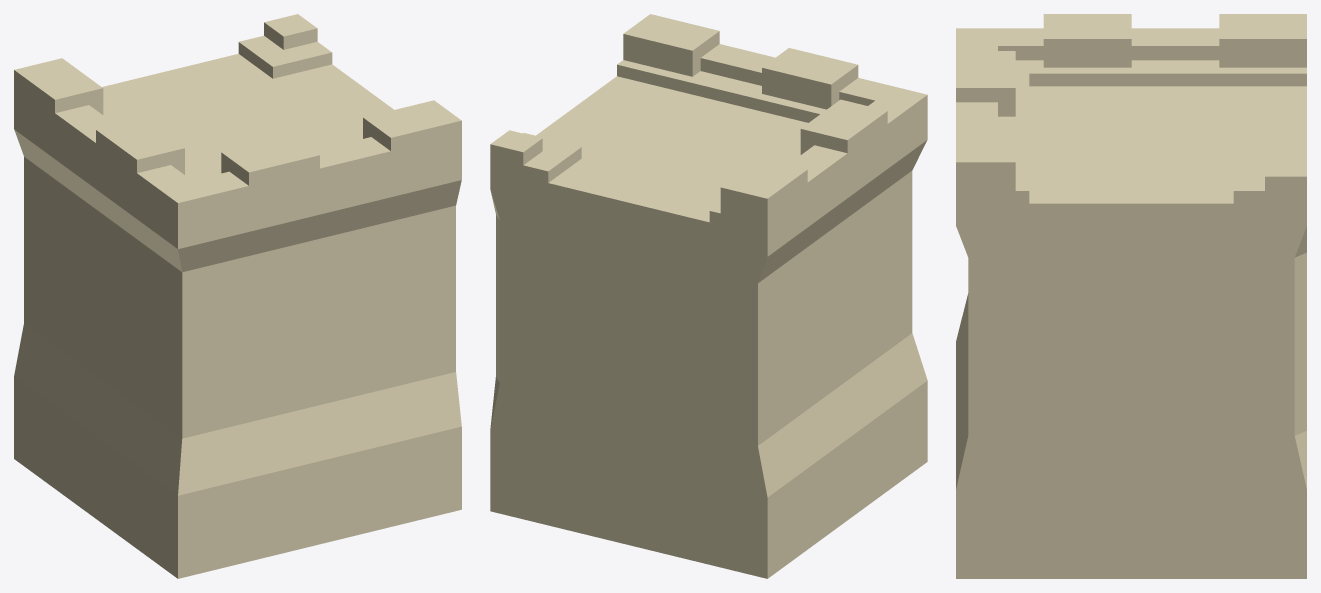
File: wallcorner.glb
The picture shows the model from 3 angles, left to right: view 1: azimuth 30°, elevation 25°; view 2: azimuth 150°, elevation 25°; view 3: azimuth 270°, elevation 25°; orthographic projection. The views are drawn at different scales.
Visible parts, largest first — view 1: wallCorner; view 2: wallCorner; view 3: wallCorner.
Part boxes in pixels (x1,y1,x2,y2): wallCorner: (14,14,461,578); wallCorner: (490,14,927,578); wallCorner: (956,14,1306,578).
Size of the model in its own units: 10 by 13.1 by 10.
